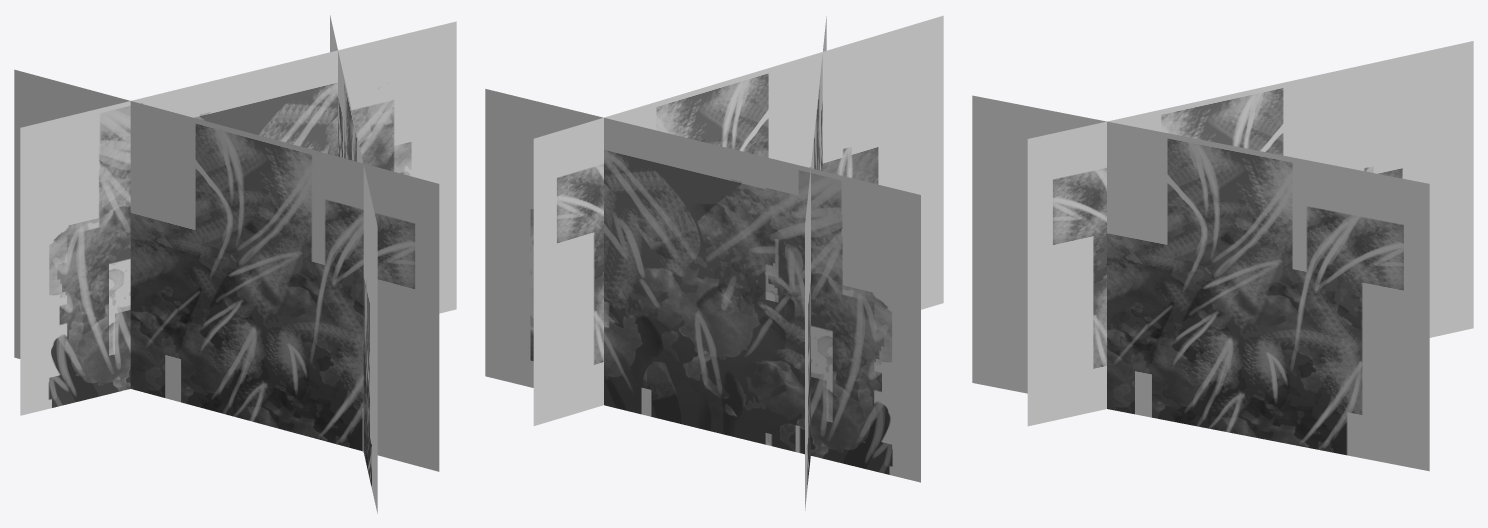
Rendered from leech_grass.fbx.
3 views of the same model, side by side, from view 1: azimuth 30°, elevation 25°; view 2: azimuth 150°, elevation 25°; view 3: azimuth 270°, elevation 25° (orthographic).
Visible parts, largest first — view 1: plant; view 2: plant; view 3: plant.
Boxes of the visible parts, x1,y1,x2,y2 form: plant: (14, 15, 456, 513); plant: (485, 15, 943, 510); plant: (972, 41, 1473, 471).
Bounding box in the file's own units: 200 × 126 × 199.
Materials: 2 (2 with a texture image).
